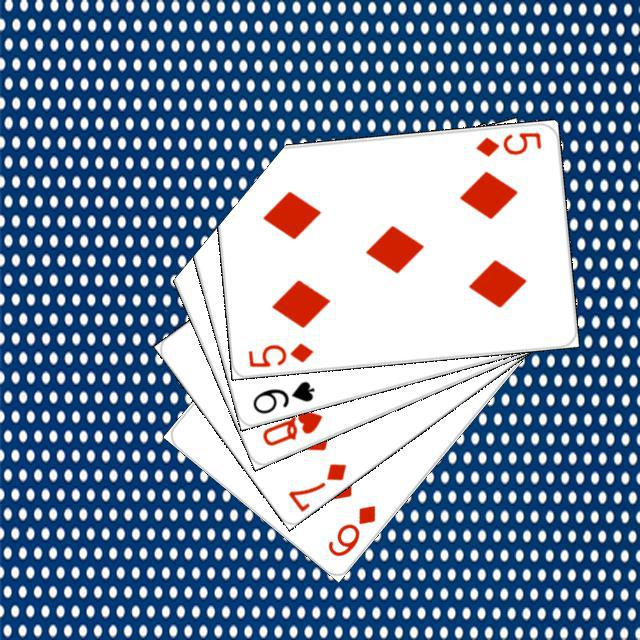5d: (470, 127, 543, 158), (243, 338, 315, 369)
6d: (322, 500, 378, 559)
7d: (283, 458, 349, 512)
9s: (247, 376, 316, 416)
Qh: (257, 406, 324, 448)
